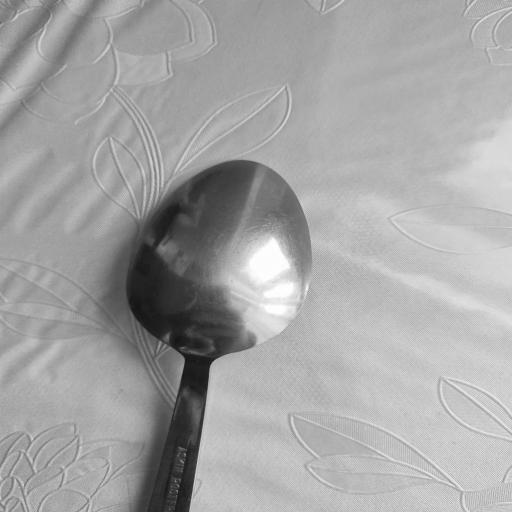spoon: (125, 165, 313, 512)
